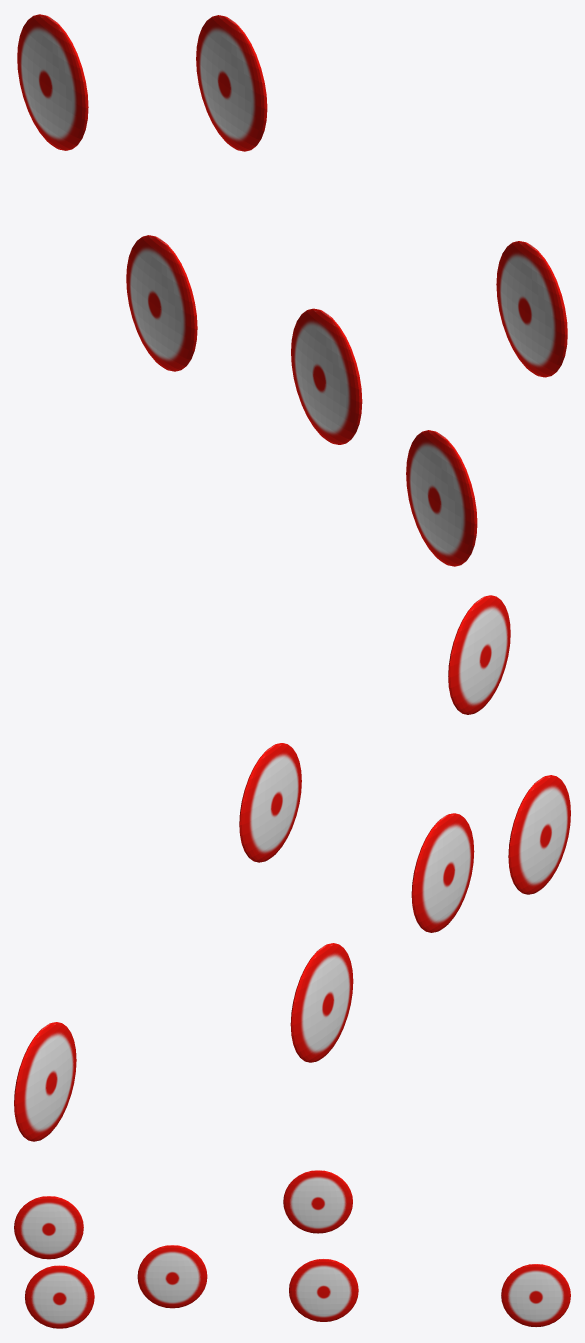
The model's file is manyTargs.glb.
3 renders of one model, top to bottom at view 1: azimuth 30°, elevation 25°; view 2: azimuth 150°, elevation 25°; view 3: azimuth 270°, elevation 25°, orthographic. The views are drawn at different scales.
Parts seen in each view (by area): view 1: Sphere.002, Sphere.001, Sphere.003, Sphere, Sphere.004, Sphere.005; view 2: Sphere.004, Sphere.001, Sphere.005, Sphere.003, Sphere.002, Sphere; view 3: Sphere.005, Sphere.003, Sphere, Sphere.004, Sphere.001, Sphere.002.
Boxes of the visible parts, x1,y1,x2,y2 form: Sphere.002: [126, 235, 197, 371]; Sphere.001: [17, 14, 88, 150]; Sphere.003: [406, 430, 477, 566]; Sphere: [291, 308, 362, 444]; Sphere.004: [496, 241, 567, 377]; Sphere.005: [196, 15, 267, 151]; Sphere.004: [448, 595, 510, 714]; Sphere.001: [14, 1022, 76, 1141]; Sphere.005: [239, 743, 301, 862]; Sphere.003: [508, 775, 570, 894]; Sphere.002: [290, 943, 353, 1062]; Sphere: [411, 813, 474, 932]; Sphere.005: [283, 1170, 352, 1233]; Sphere.003: [25, 1265, 94, 1328]; Sphere: [137, 1245, 207, 1308]; Sphere.004: [14, 1196, 83, 1259]; Sphere.001: [501, 1264, 570, 1327]; Sphere.002: [289, 1258, 358, 1321].
Size of the model in its own units: 1.95 by 5.38 by 15.95.
Materials: 6 (6 with a texture image).
